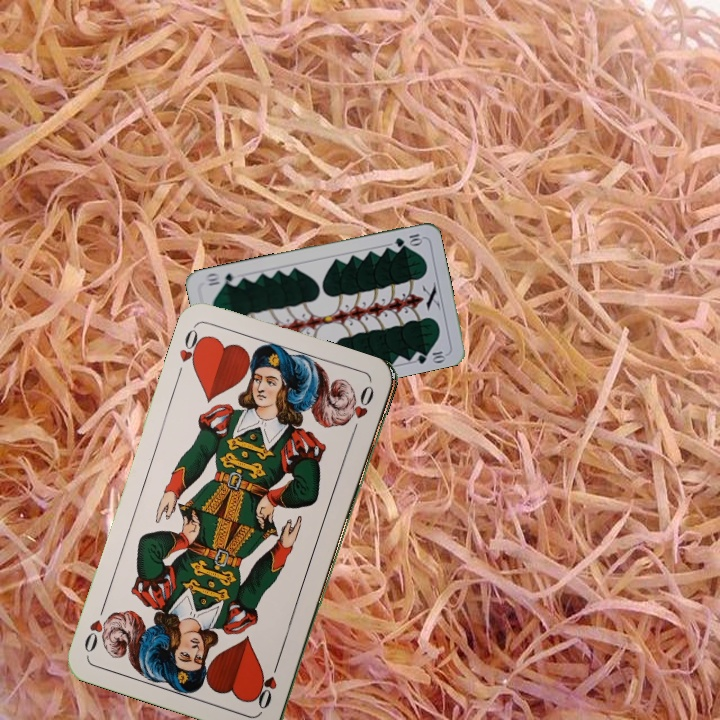G10: (391, 230, 425, 249)
HO: (175, 322, 208, 373), (254, 656, 283, 712)
